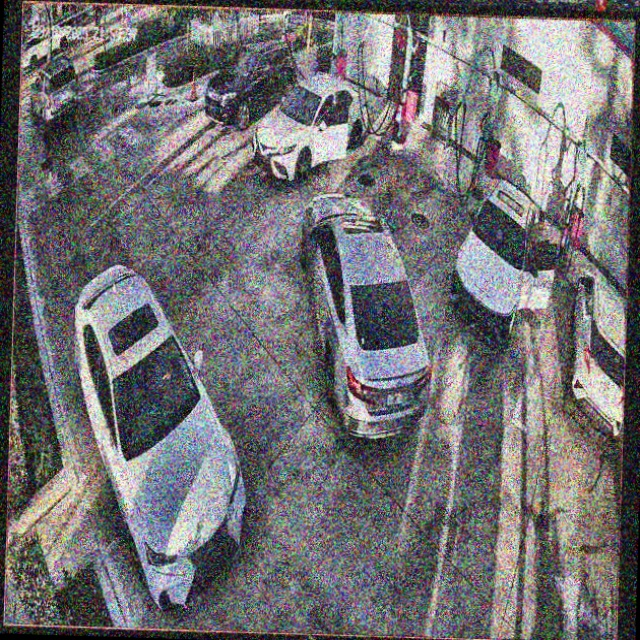Car: (67, 260, 256, 612), (296, 190, 437, 445), (450, 181, 544, 347), (252, 71, 368, 183)
